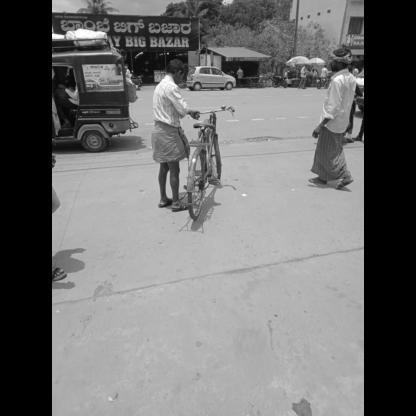Bicycle: (168, 100, 242, 231)
